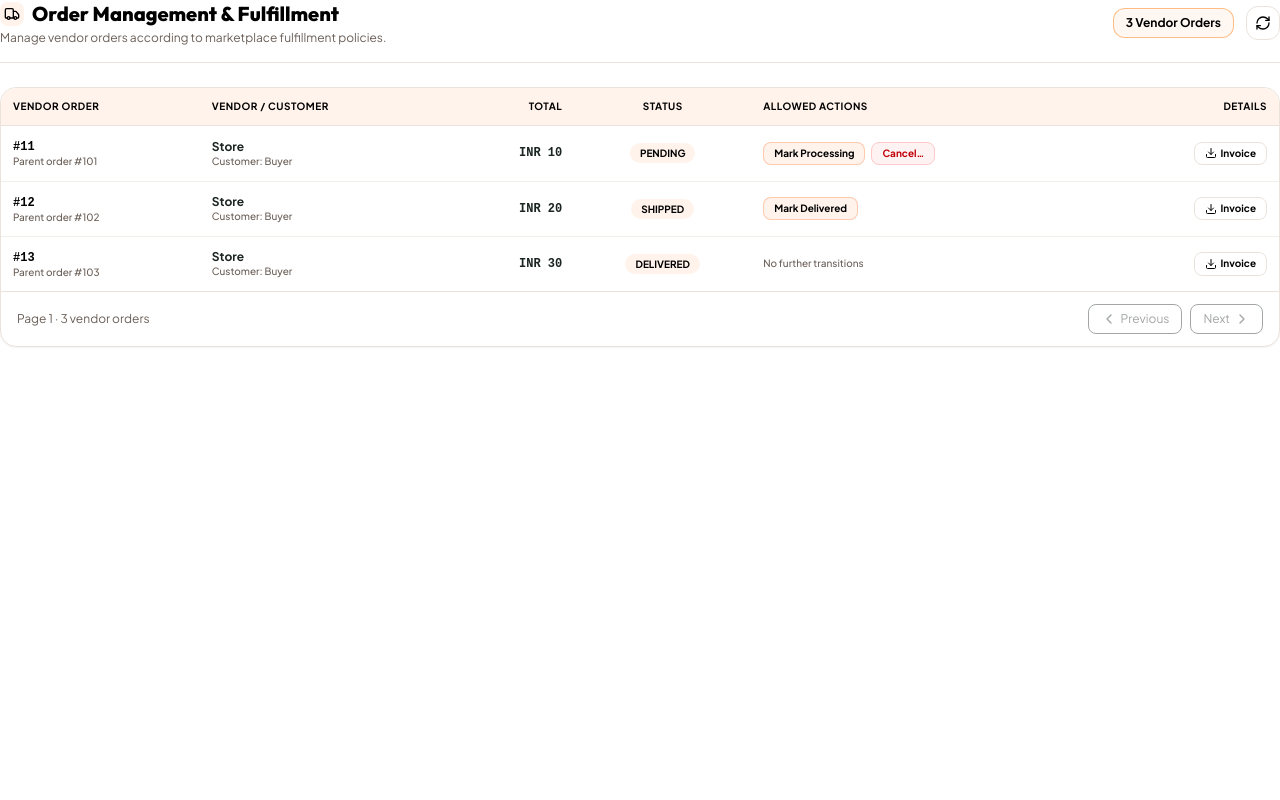
it: OrderOpsModule real transition actions › offers only legal transitions and changes a row only after a real 200 response
Expected: the text "pending" is shown, [630,144,695,164]
Expected: the button "Mark shipped" is not shown
Click the button "Mark processing" at x=814, y=153, box [763,142,865,165]
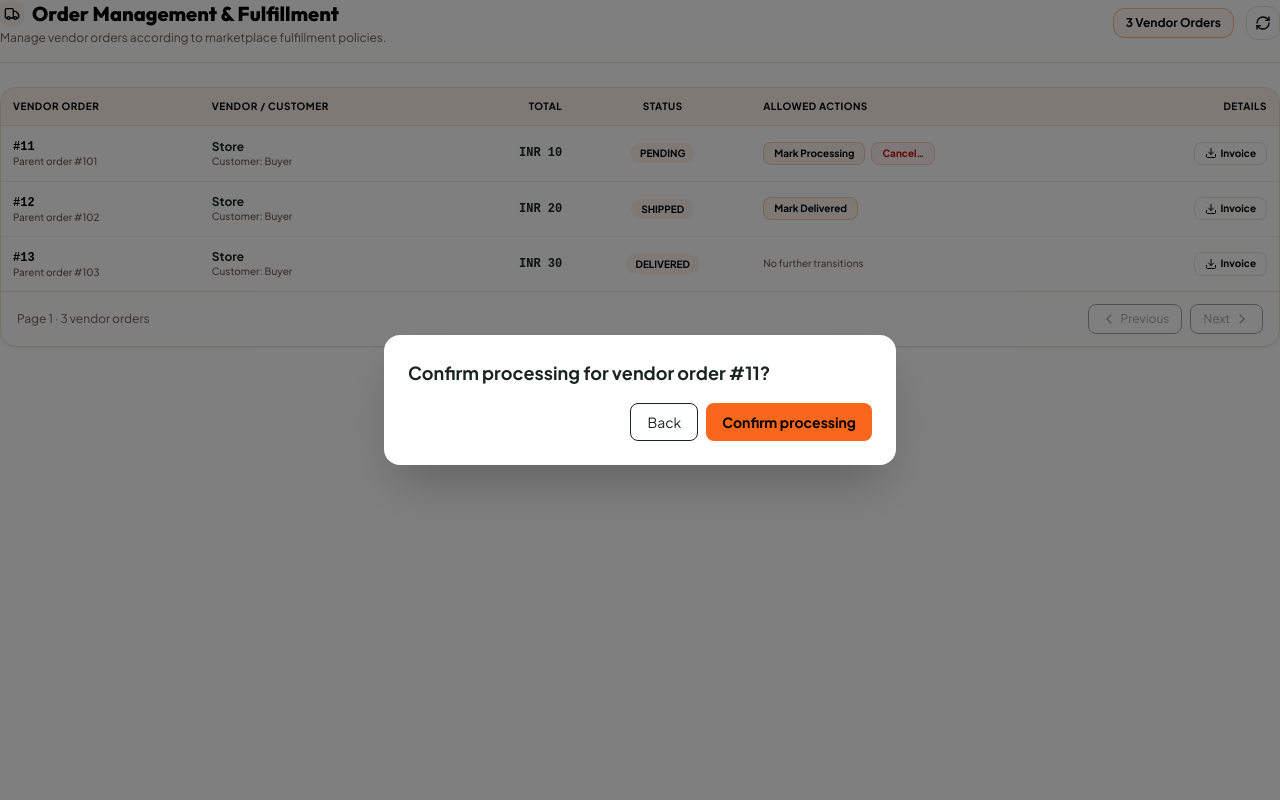
Click the button "Confirm processing" at x=789, y=422, box [706,403,872,441]
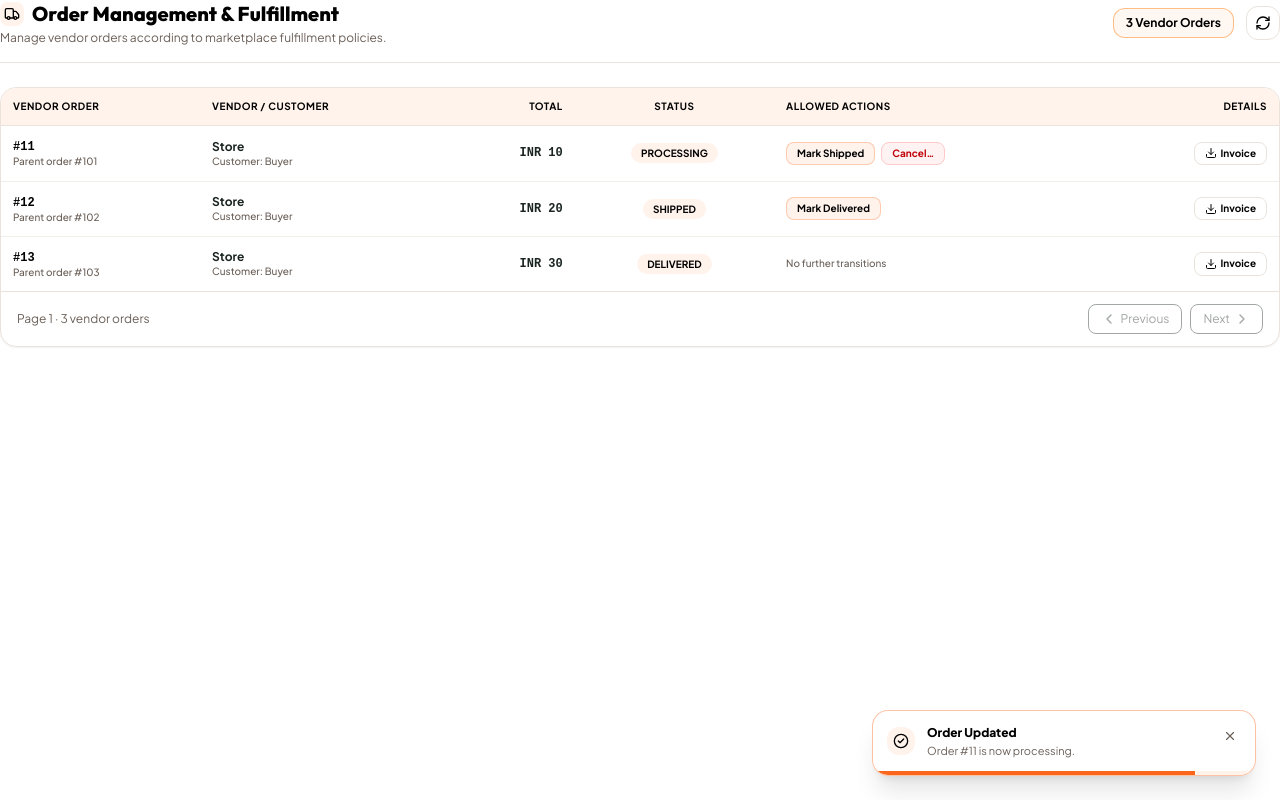
Expected: the text "processing" is shown, [631,144,718,164]
Expected: the button "Mark processing" is gone
